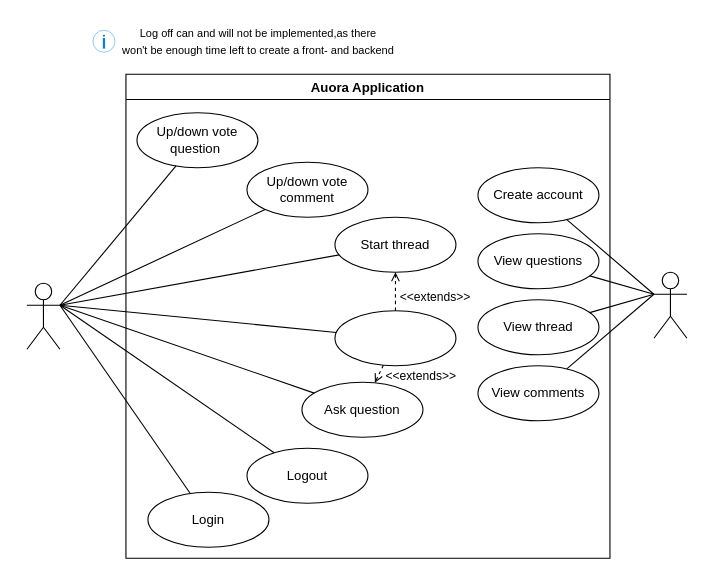
Some shapes in this 707 by 578 pixel diagram are drawn without their labels. The shapes that lost their labels are listed below. From the top down, each one's centre as x and y in pixels, then its label:
point 43,315: Member
point 670,304: Visitor
point 395,338: Write comment
